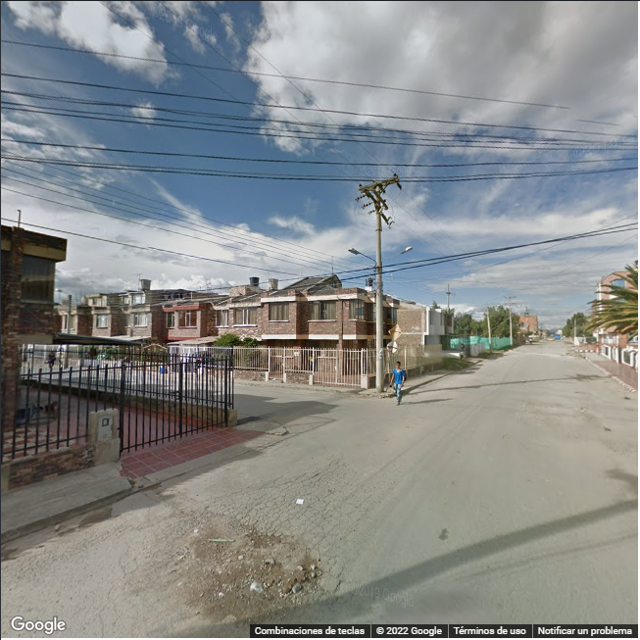D10: (120, 577, 134, 634), (104, 571, 115, 634)
D20: (217, 453, 365, 570)
